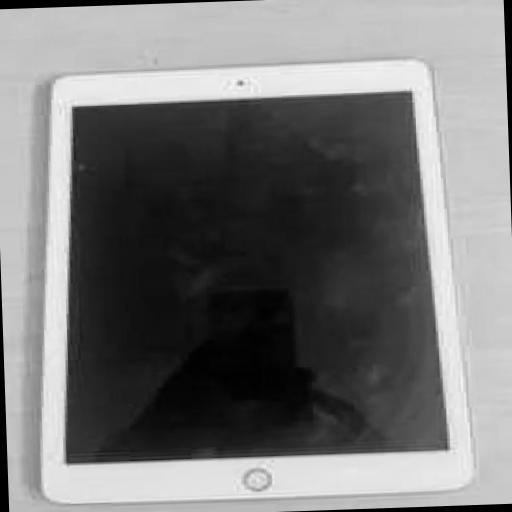phone: (35, 60, 479, 496)
